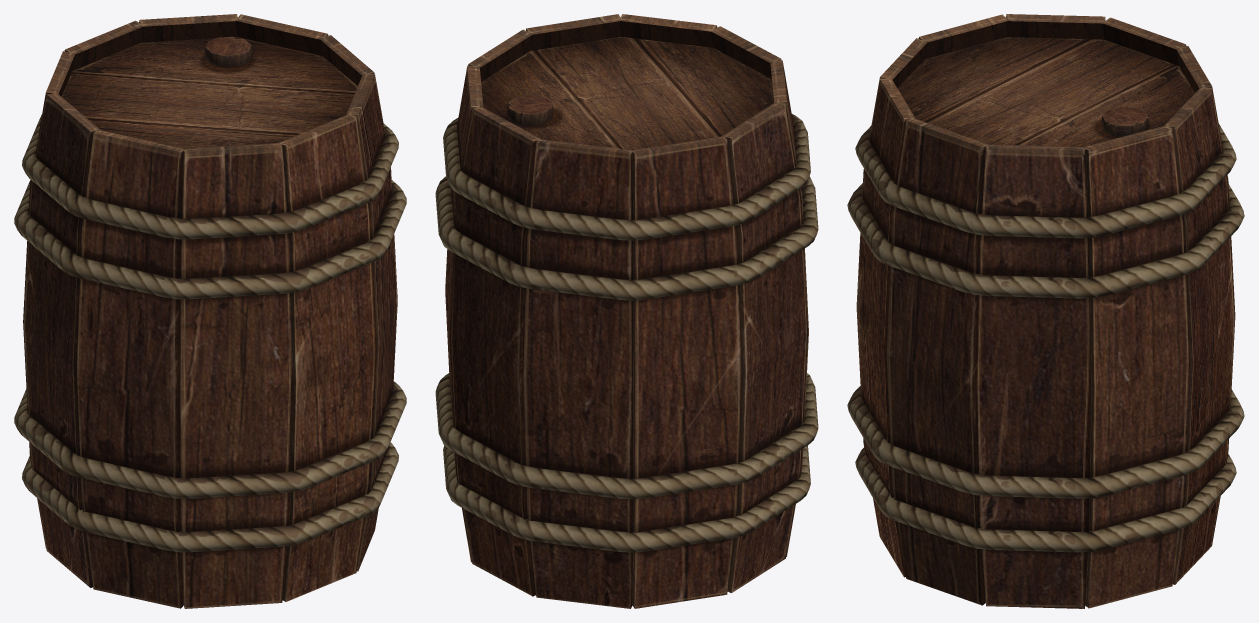
The model's file is B4_Casks.FBX.
3 renders of one model, left to right at view 1: azimuth 30°, elevation 25°; view 2: azimuth 150°, elevation 25°; view 3: azimuth 270°, elevation 25°, orthographic.
Visible parts, largest first — view 1: B4_Casks; view 2: B4_Casks; view 3: B4_Casks.
Part boxes in pixels (<box>): B4_Casks: <box>14,14,406,608</box>; B4_Casks: <box>435,14,818,608</box>; B4_Casks: <box>847,14,1244,608</box>.
Bounding box in the file's own units: 16.28 × 21.16 × 16.63.
Materials: 1 (1 with a texture image).
